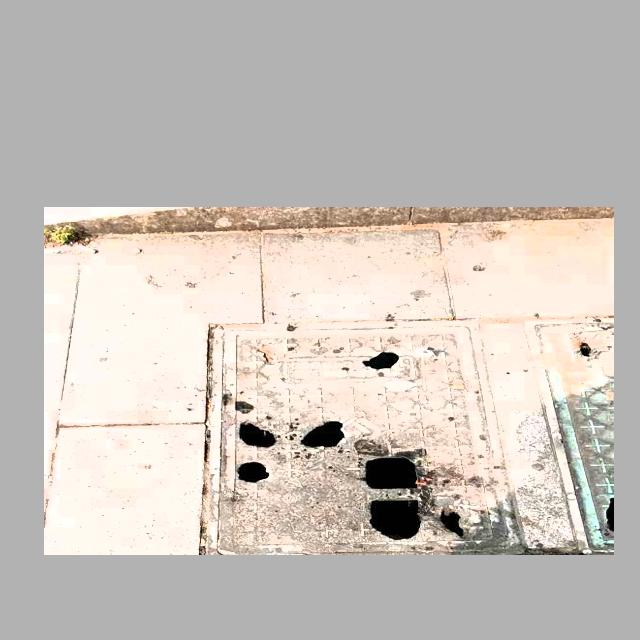broke: (204, 327, 515, 555)
